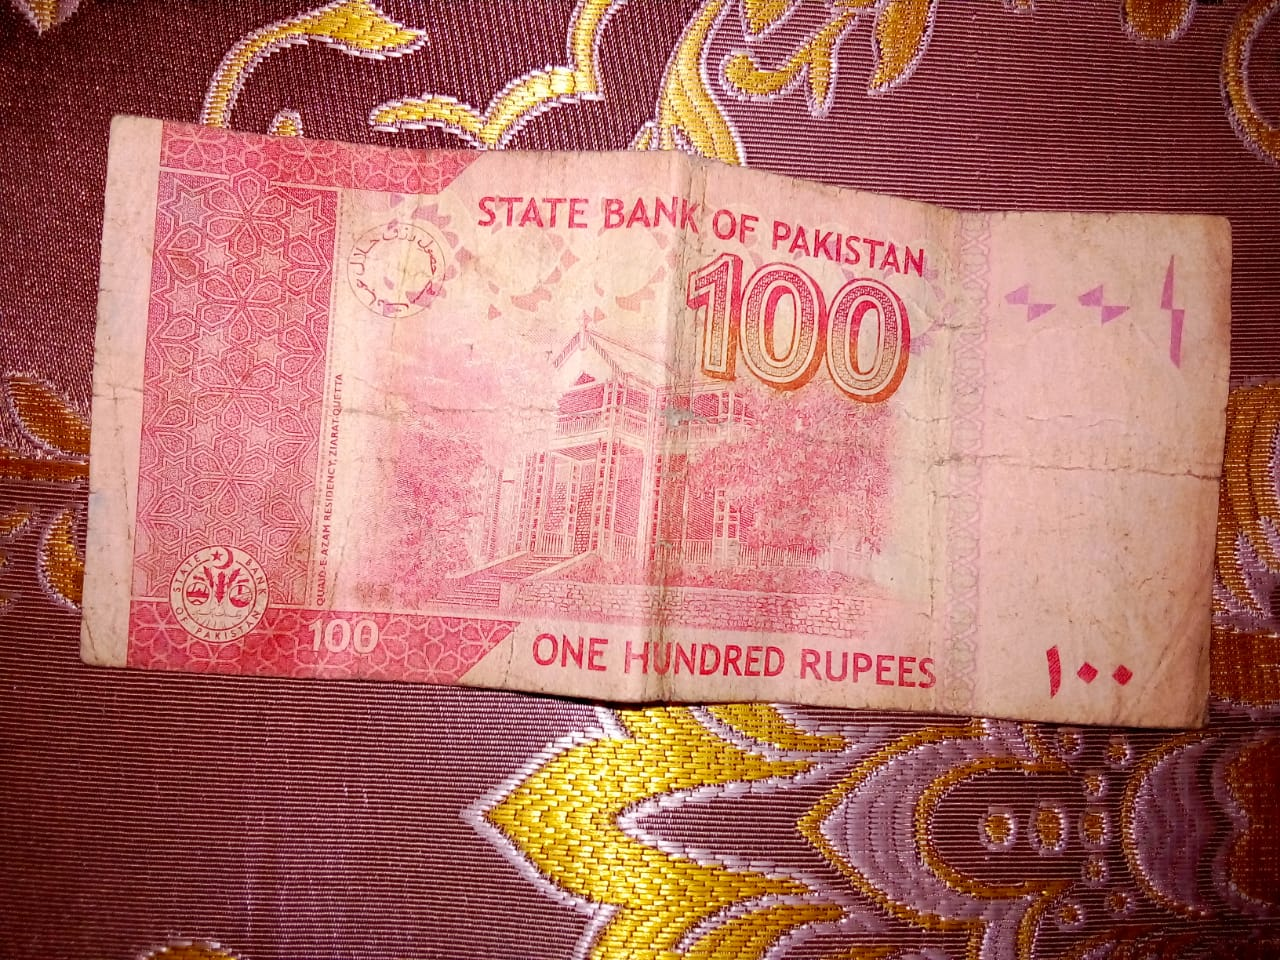100 rupee: (50, 92, 1241, 776)
